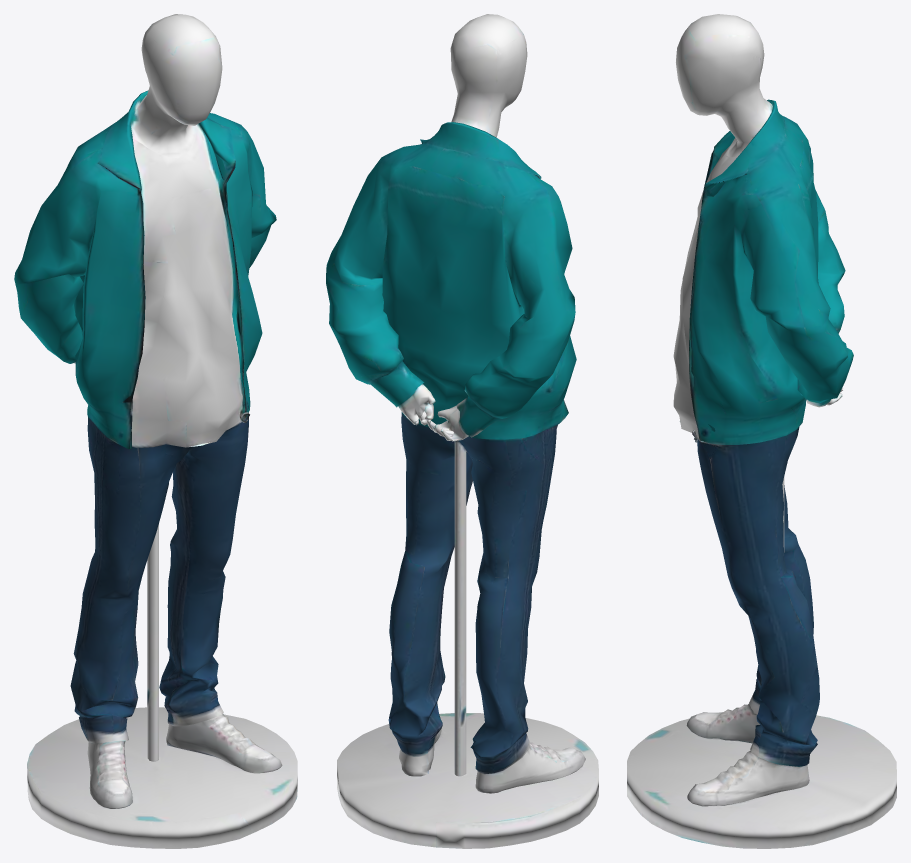
Rendered from mannequin.glb.
3 views of the same model, side by side, from view 1: azimuth 30°, elevation 25°; view 2: azimuth 150°, elevation 25°; view 3: azimuth 270°, elevation 25° (orthographic). The views are drawn at different scales.
Bounding box in the file's own units: 0.316 × 0.9512 × 0.3003.
Materials: 1 (1 with a texture image).
